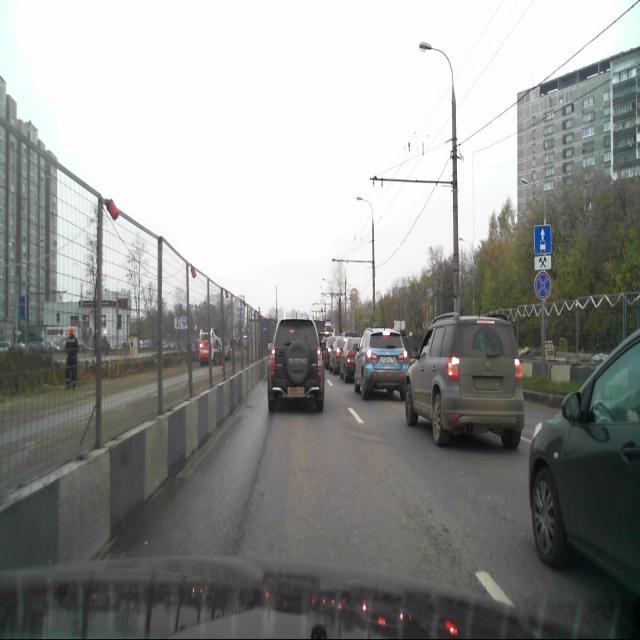road sign: (533, 225, 550, 255), (533, 255, 550, 270)
